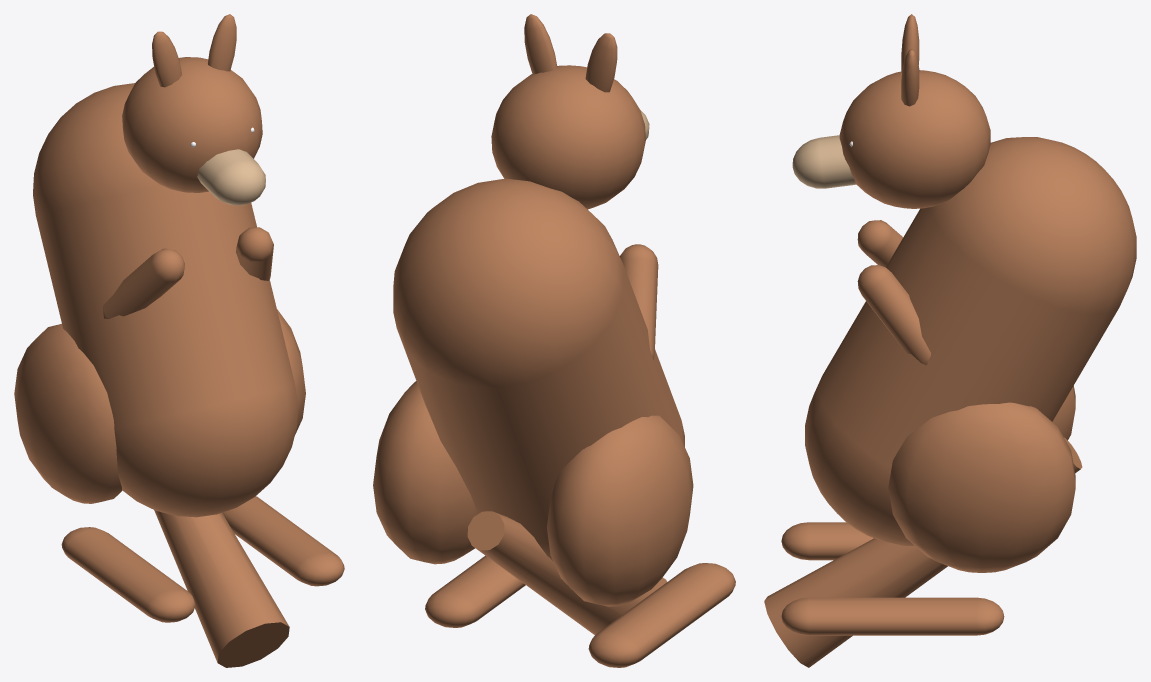
The model's file is h18-kanguru.glb.
The picture shows the model from 3 angles, left to right: view 1: azimuth 30°, elevation 25°; view 2: azimuth 150°, elevation 25°; view 3: azimuth 270°, elevation 25°; orthographic projection. The views are drawn at different scales.
Visible parts, largest first — view 1: Kanguru, head; view 2: Kanguru, head; view 3: Kanguru, head.
Boxes of the visible parts, bbox=[...] form: Kanguru: bbox=[14, 83, 344, 667]; head: bbox=[122, 14, 265, 205]; Kanguru: bbox=[373, 178, 735, 667]; head: bbox=[491, 14, 649, 209]; Kanguru: bbox=[764, 137, 1136, 667]; head: bbox=[792, 14, 990, 208].
Size of the model in its own units: 0.55 by 1.25 by 0.6686.
